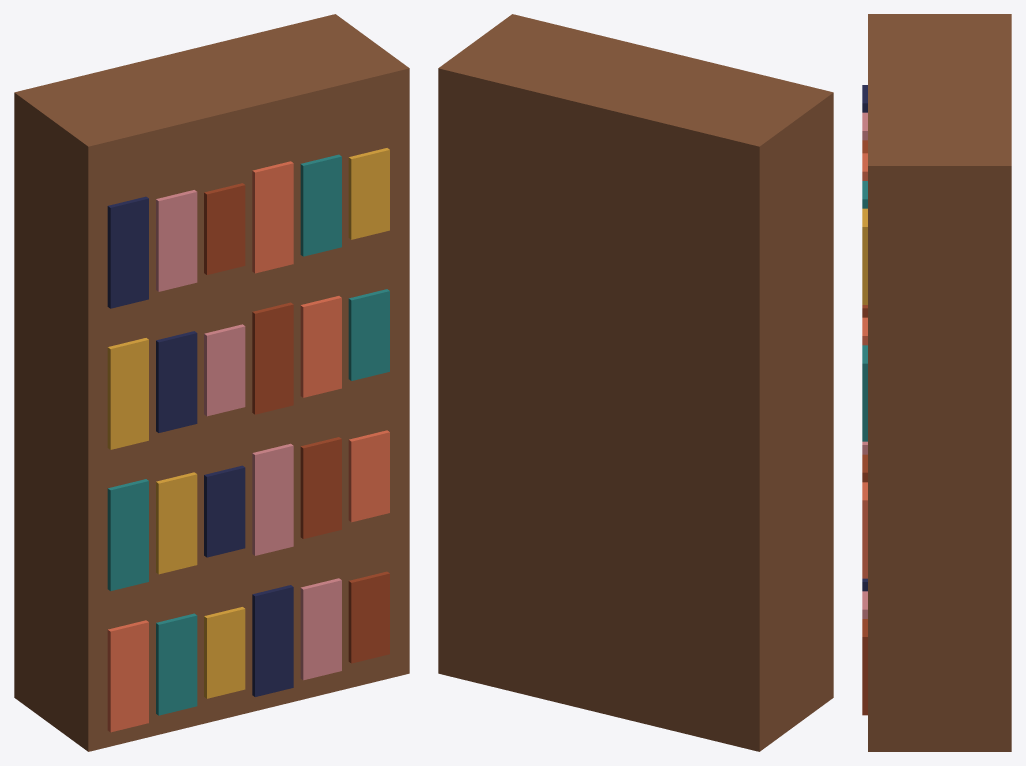
File: bookshelf.glb
3 renders of one model, left to right at view 1: azimuth 30°, elevation 25°; view 2: azimuth 150°, elevation 25°; view 3: azimuth 270°, elevation 25°, orthographic. The views are drawn at different scales.
Parts seen in each view (by area): view 1: Box1, Box2, Box17, Box23, Box11, Box14, Box20, Box8, Box5, Box9, Box18, Box24 (+13 smaller); view 2: Box1; view 3: Box1, Box7, Box13, Box19, Box25.
Part boxes in pixels (x1,y1,x2,y2): Box1: (14,14,409,751); Box2: (107,620,148,732); Box17: (252,302,293,414); Box23: (252,161,293,273); Box11: (252,443,293,555); Box14: (107,338,148,449); Box20: (107,196,148,308); Box8: (107,479,148,591); Box5: (252,585,293,696); Box9: (156,472,197,574); Box18: (300,296,341,397); Box24: (300,154,341,256); Box1: (438,14,833,751); Box1: (868,14,1011,751); Box7: (862,619,867,715); Box13: (862,482,867,578); Box19: (862,345,867,441); Box25: (862,208,867,304).
Bounding box in the file's own units: 1 × 1.8 × 0.415.
